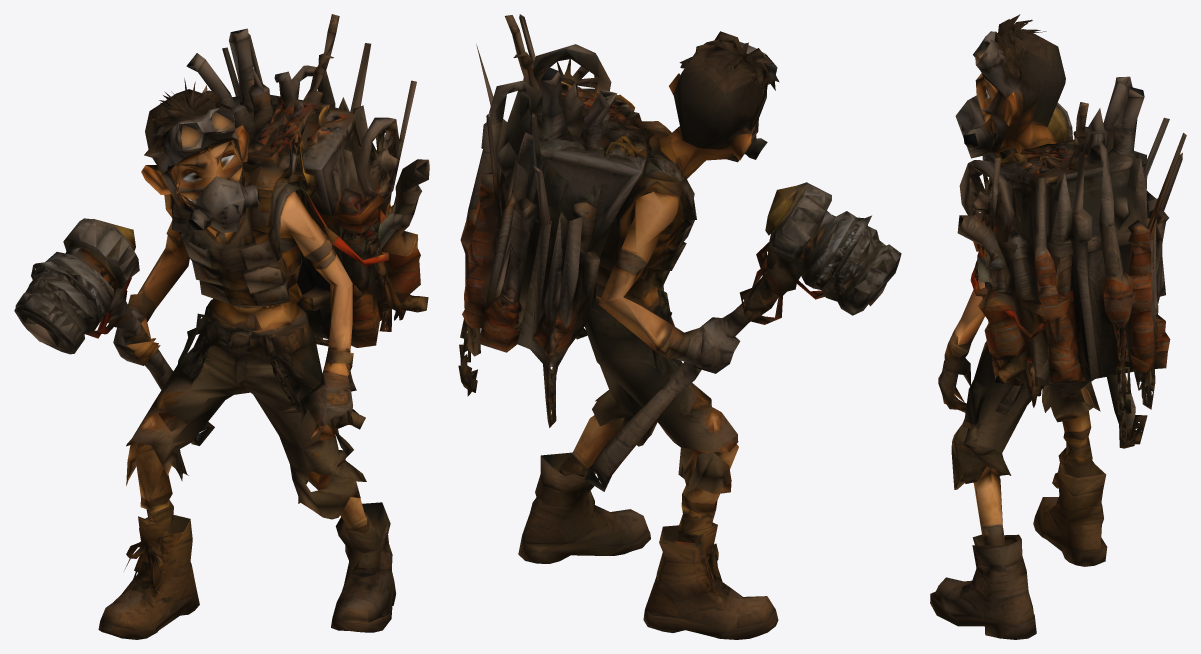
The model's file is demo_oracle_01_low_v2.glb.
3 views of the same model, side by side, from view 1: azimuth 30°, elevation 25°; view 2: azimuth 150°, elevation 25°; view 3: azimuth 270°, elevation 25° (orthographic). The views are drawn at different scales.
Parts seen in each view (by area): view 1: node_0; view 2: node_0; view 3: node_0.
Part boxes in pixels (x1,y1,x2,y2): node_0: (14,14,429,639); node_0: (458,14,901,639); node_0: (930,14,1186,639).
Bounding box in the file's own units: 0.7475 × 1 × 0.441.
Materials: 1 (1 with a texture image).
